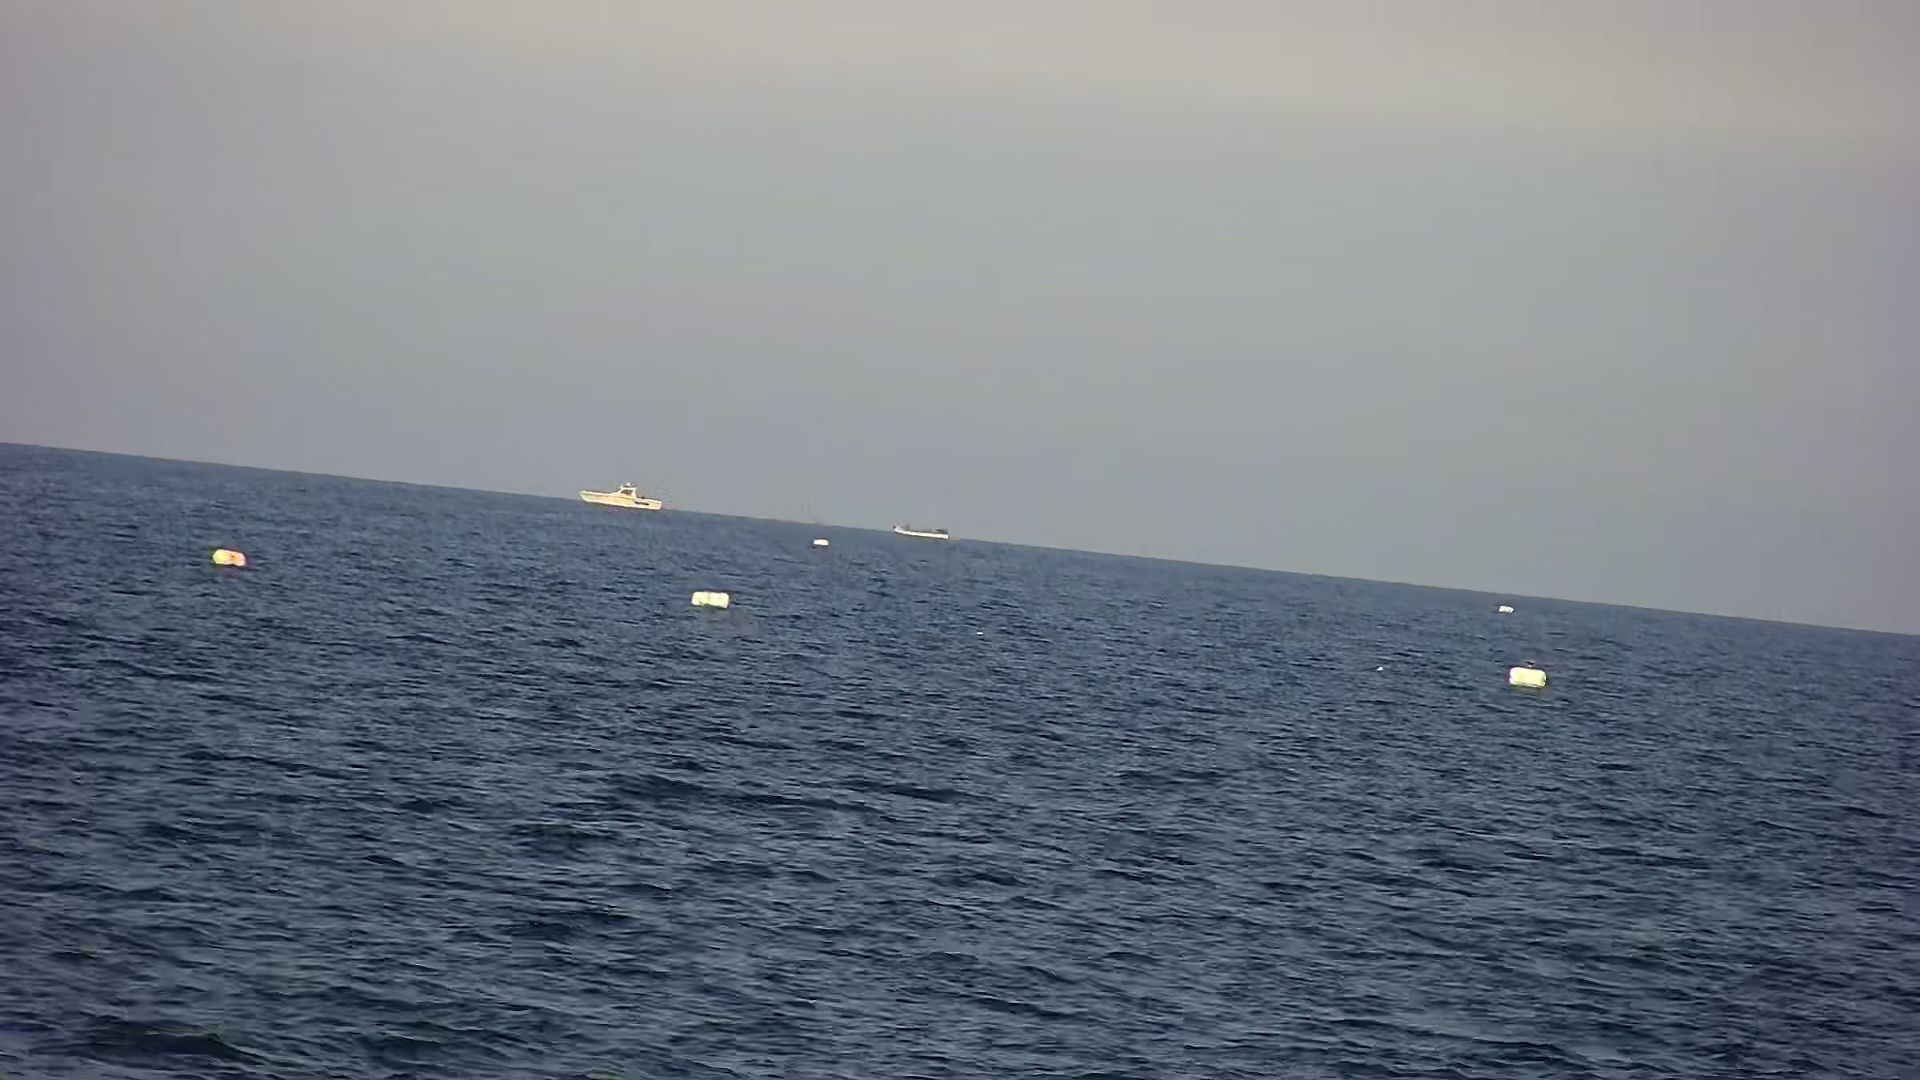rubbish: (1505, 657, 1560, 698), (682, 580, 740, 611), (208, 542, 245, 574)
ship: (580, 473, 666, 516), (895, 524, 963, 546)
